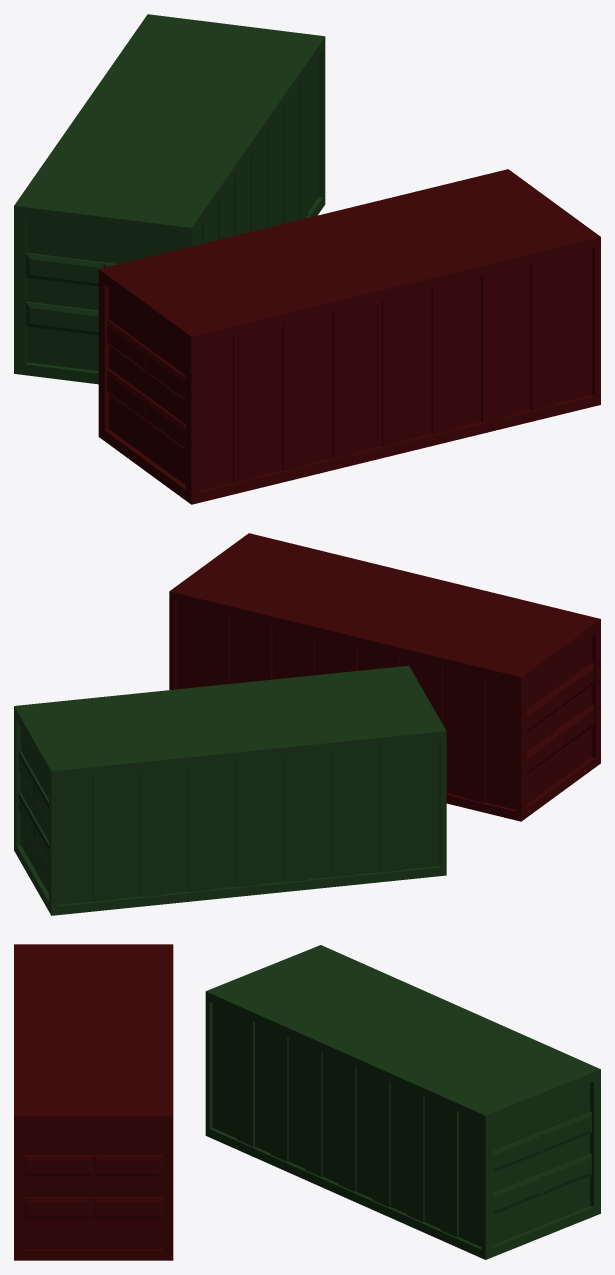
The model's file is contenedor_grande.fbx.
3 renders of one model, top to bottom at view 1: azimuth 30°, elevation 25°; view 2: azimuth 150°, elevation 25°; view 3: azimuth 270°, elevation 25°, orthographic. The views are drawn at different scales.
Parts seen in each view (by area): view 1: contenedor1, contenedor2; view 2: contenedor2, contenedor1; view 3: contenedor2, contenedor1.
Part boxes in pixels (box(x1,y1,x2,y2)): contenedor1: box(98, 169, 600, 504); contenedor2: box(14, 14, 325, 384); contenedor2: box(14, 665, 446, 915); contenedor1: box(169, 533, 600, 821); contenedor2: box(205, 945, 600, 1259); contenedor1: box(14, 944, 173, 1260).
Bounding box in the file's own units: 449 × 176 × 649.
